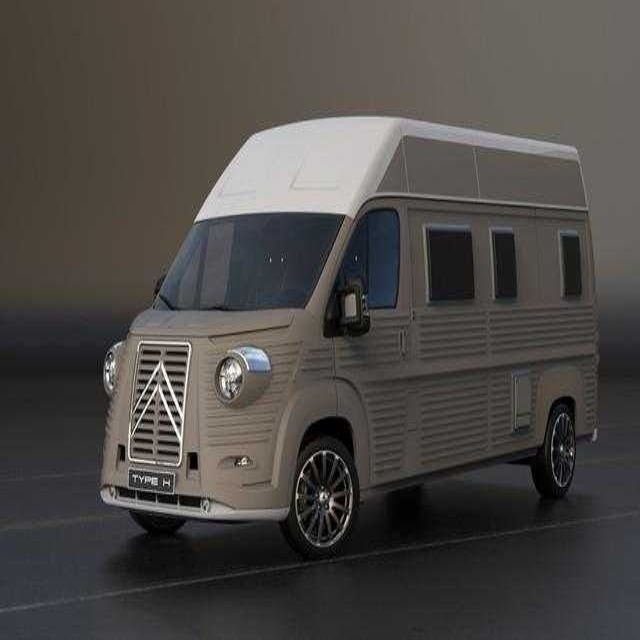Van: (97, 114, 599, 562)
